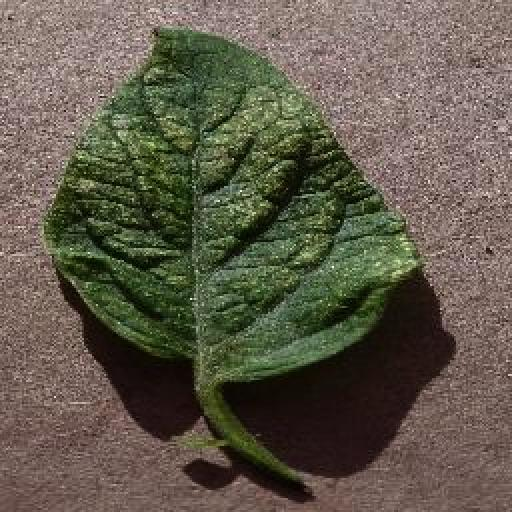disease_tomato: (44, 28, 416, 386)
